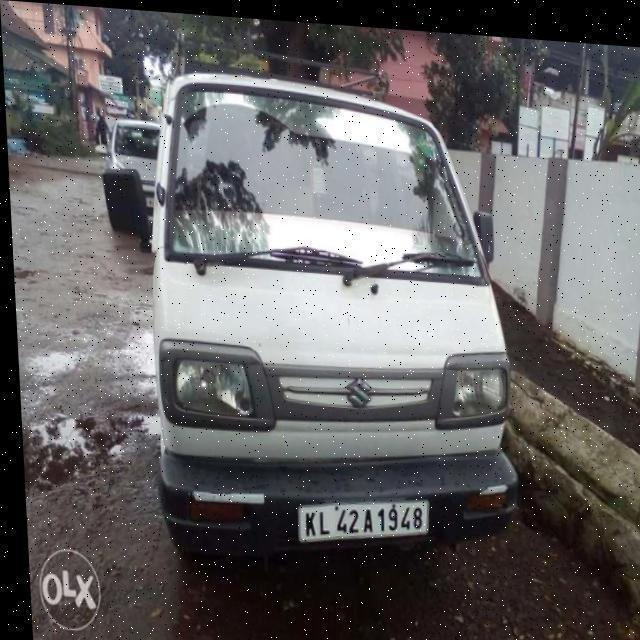Ambulance: (7, 153, 640, 640), (132, 55, 520, 578), (94, 111, 168, 252)
